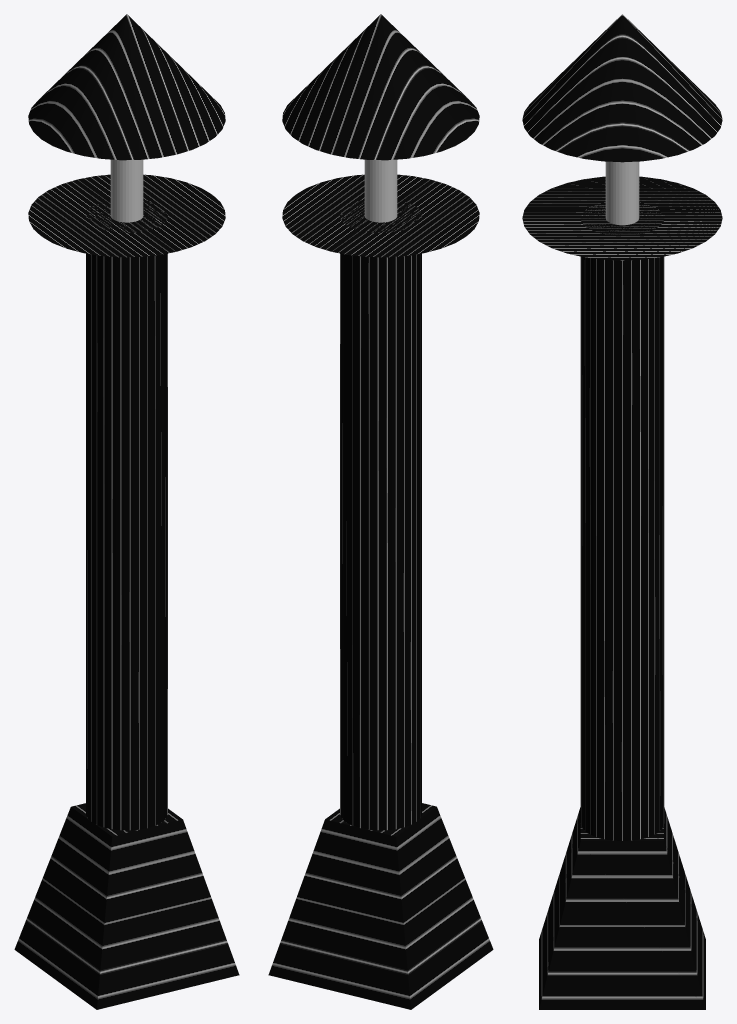
The model's file is Poste.obj.
3 renders of one model, left to right at view 1: azimuth 30°, elevation 25°; view 2: azimuth 150°, elevation 25°; view 3: azimuth 270°, elevation 25°, orthographic.
Visible parts, largest first — view 1: Cilindro, Cube, Cono, Círculo, Cilindro.001; view 2: Cilindro, Cube, Cono, Círculo, Cilindro.001; view 3: Cilindro, Cube, Cono, Círculo, Cilindro.001.
Part boxes in pixels (bbox=[...]): Cilindro: bbox=[86, 200, 167, 830]; Cube: bbox=[14, 803, 239, 1009]; Cono: bbox=[28, 14, 225, 160]; Círculo: bbox=[28, 174, 225, 257]; Cilindro.001: bbox=[110, 159, 143, 222]; Cilindro: bbox=[340, 200, 421, 830]; Cube: bbox=[268, 803, 493, 1009]; Cono: bbox=[282, 14, 479, 160]; Círculo: bbox=[282, 174, 479, 257]; Cilindro.001: bbox=[364, 159, 397, 222]; Cilindro: bbox=[580, 202, 664, 840]; Cube: bbox=[539, 807, 705, 1009]; Cono: bbox=[522, 14, 722, 162]; Círculo: bbox=[522, 176, 722, 260]; Cilindro.001: bbox=[605, 161, 639, 225].
Bounding box in the file's own units: 2.4 × 12.7 × 2.4.
